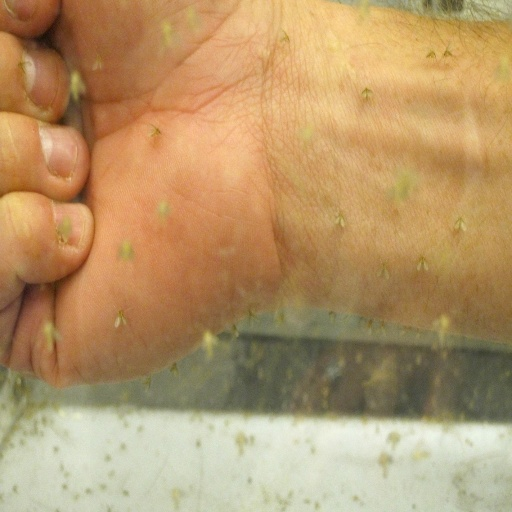hand: (19, 0, 477, 407)
